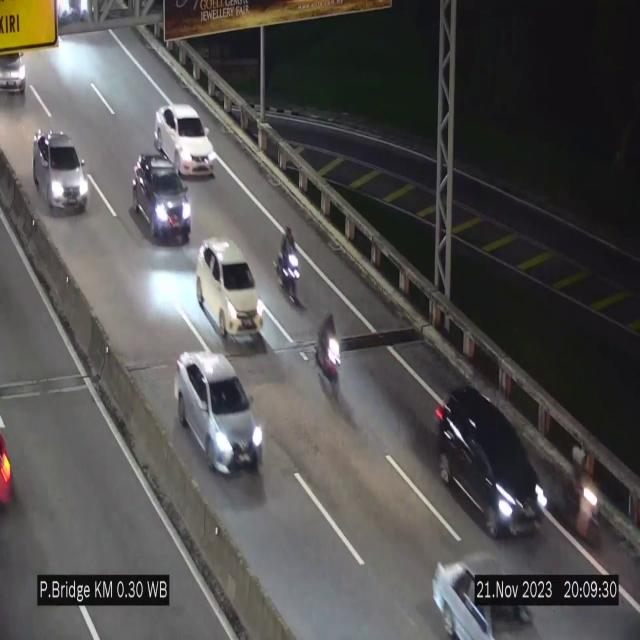Car: (431, 384, 551, 554), (427, 538, 545, 640), (176, 352, 263, 472), (198, 239, 262, 343), (132, 152, 192, 242), (34, 130, 88, 212), (154, 104, 216, 174), (0, 42, 40, 103)
Motorcycle: (568, 441, 605, 555), (317, 314, 347, 397), (276, 226, 300, 304)
